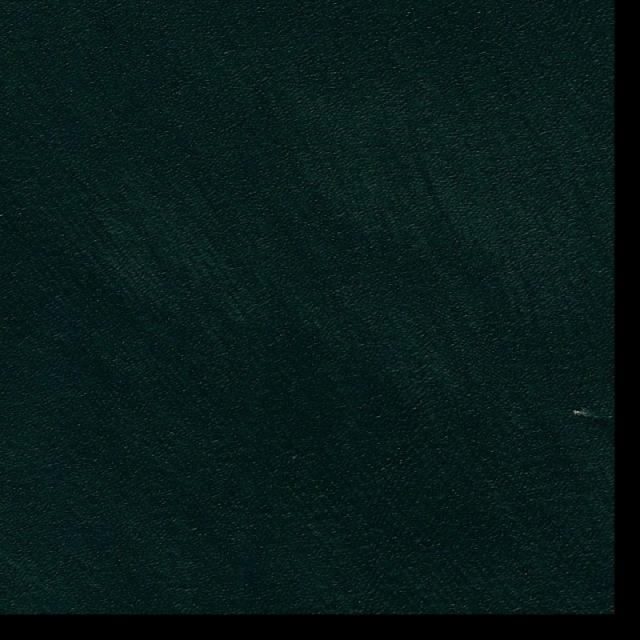ship: (573, 410, 585, 415)
